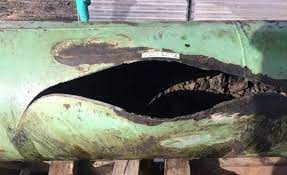rupture: (18, 51, 284, 129)
